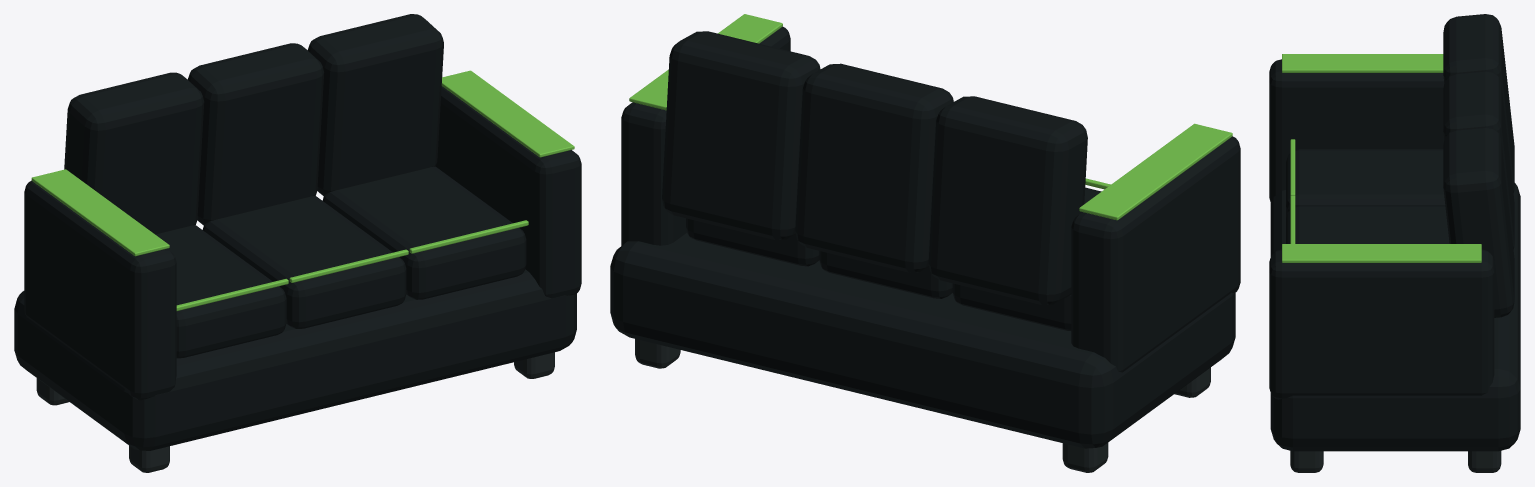
File: hiperreal.glb
3 renders of one model, left to right at view 1: azimuth 30°, elevation 25°; view 2: azimuth 150°, elevation 25°; view 3: azimuth 270°, elevation 25°, orthographic. The views are drawn at different scales.
Parts seen in each view (by area): view 1: Upholstered base, Armrest, Back cushion.001, Back cushion.002, Back cushion, Armrest.001, Seat cushion.002, Seat cushion.001, Seat cushion, Green edge, Green edge.001, Sofa foot.001 (+4 smaller); view 2: Upholstered base, Back cushion, Armrest, Back cushion.002, Back cushion.001, Armrest.001, Green edge, Seat cushion, Seat cushion.002, Seat cushion.001, Green edge.001, Sofa foot (+1 smaller); view 3: Armrest.001, Upholstered base, Armrest, Seat cushion, Back cushion.002, Seat cushion.001, Back cushion.001, Back cushion, Green edge.001, Green edge, Sofa foot.002, Sofa foot.003 (+2 smaller).
Boxes of the visible parts, x1,y1,x2,y2 form: Upholstered base: (14, 269, 576, 450); Armrest: (24, 180, 176, 400); Back cushion.001: (187, 43, 324, 225); Back cushion.002: (307, 14, 443, 195); Back cushion: (64, 72, 204, 234); Armrest.001: (435, 86, 581, 298); Seat cushion.002: (322, 166, 526, 299); Seat cushion.001: (202, 195, 406, 328); Seat cushion: (155, 225, 286, 358); Green edge: (31, 169, 169, 256); Green edge.001: (441, 70, 574, 157); Sofa foot.001: (129, 445, 169, 472); Upholstered base: (610, 232, 1235, 448); Back cushion: (928, 96, 1087, 304); Armrest: (1071, 136, 1240, 372); Back cushion.002: (662, 31, 820, 239); Back cushion.001: (795, 63, 953, 272); Armrest.001: (621, 26, 790, 245); Green edge: (1079, 123, 1232, 220); Seat cushion: (952, 187, 1101, 330); Seat cushion.002: (686, 218, 819, 266); Seat cushion.001: (819, 251, 952, 298); Green edge.001: (629, 14, 782, 110); Sofa foot: (1062, 443, 1108, 472); Armrest.001: (1269, 249, 1494, 399); Upholstered base: (1270, 183, 1520, 451); Armrest: (1269, 59, 1444, 202); Seat cushion: (1286, 149, 1445, 217); Back cushion.002: (1443, 126, 1514, 317); Seat cushion.001: (1286, 205, 1449, 243); Back cushion.001: (1443, 70, 1514, 248); Back cushion: (1443, 14, 1514, 192); Green edge.001: (1282, 244, 1481, 262); Green edge: (1282, 54, 1443, 72); Sofa foot.002: (1468, 451, 1501, 472); Sofa foot.003: (1290, 451, 1323, 472).
Bounding box in the file's own units: 1 × 0.6299 × 0.5028.
